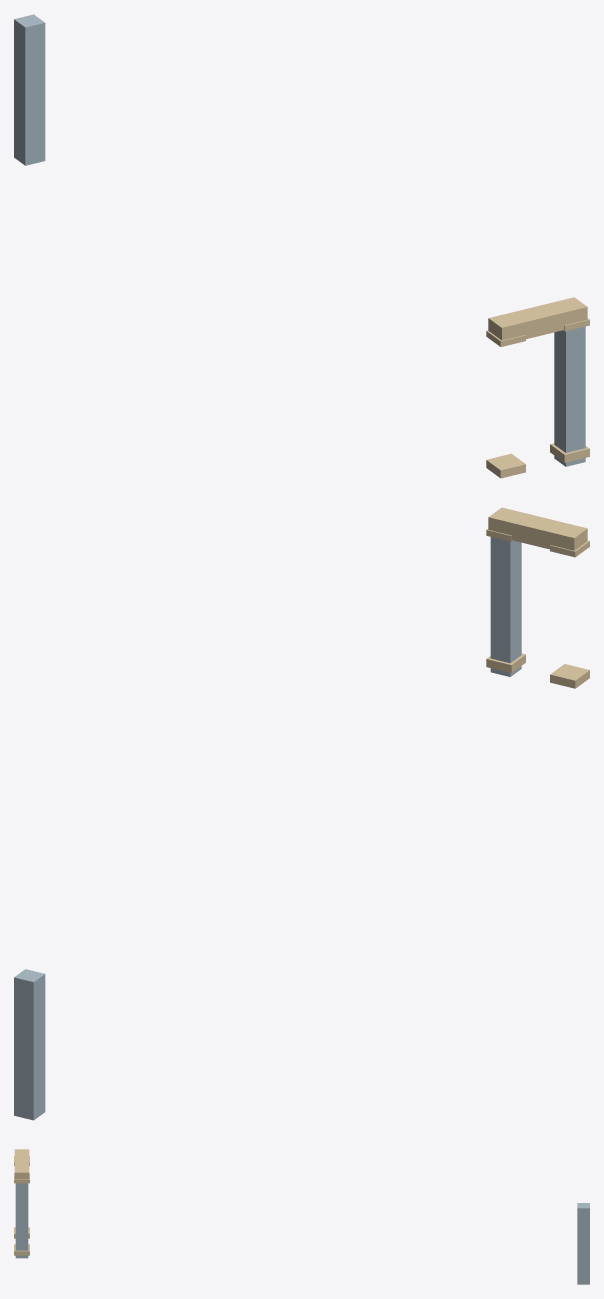
The model's file is ENV_Archway.fbx.
The picture shows the model from 3 angles, top to bottom: view 1: azimuth 30°, elevation 25°; view 2: azimuth 150°, elevation 25°; view 3: azimuth 270°, elevation 25°; orthographic projection. The views are drawn at different scales.
Visible parts, largest first — view 1: ENV_Archway, ENV_Archway_PillarR, ENV_Archway_Lintel, ENV_Archway_CapL; view 2: ENV_Archway, ENV_Archway_PillarR, ENV_Archway_Lintel; view 3: ENV_Archway, ENV_Archway_PillarR, ENV_Archway_Lintel.
Boxes of the visible parts, x1,y1,x2,y2 form: ENV_Archway: (14,14,45,165); ENV_Archway_PillarR: (554,326,585,466); ENV_Archway_Lintel: (488,297,587,340); ENV_Archway_CapL: (486,453,525,478); ENV_Archway: (14,969,45,1120); ENV_Archway_PillarR: (490,537,521,676); ENV_Archway_Lintel: (488,507,587,550); ENV_Archway: (577,1203,589,1284); ENV_Archway_PillarR: (15,1183,28,1258); ENV_Archway_Lintel: (14,1149,29,1179).
Bounding box in the file's own units: 162 × 380 × 1641.
